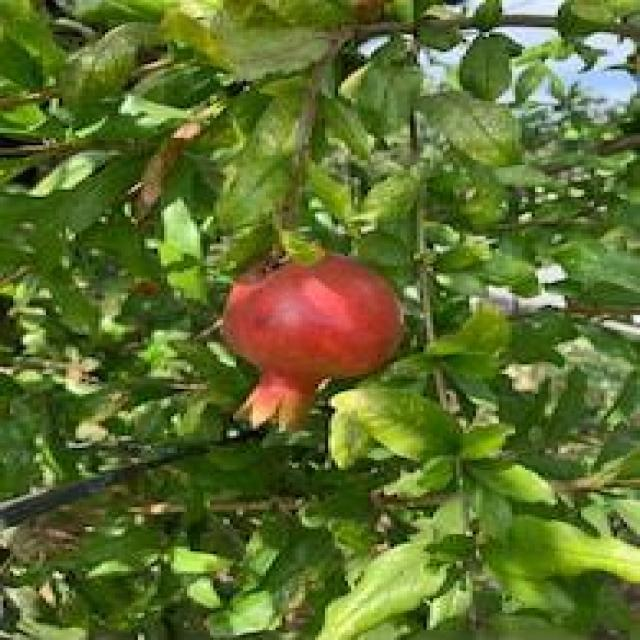Pomegranate: (222, 252, 407, 434)
